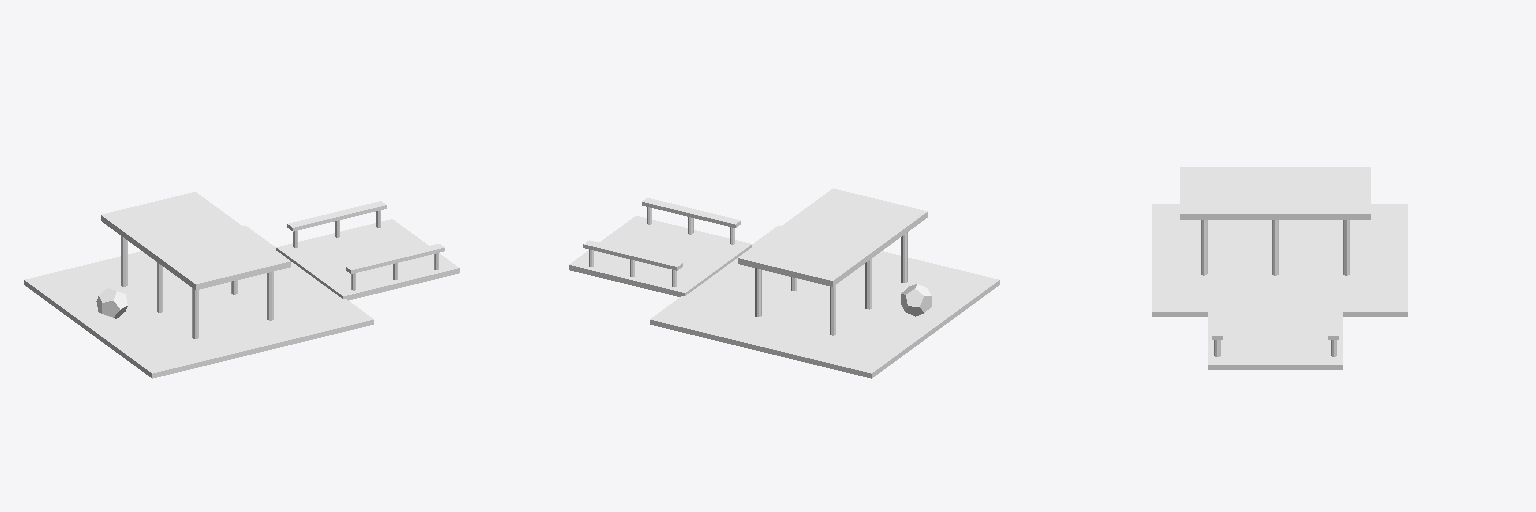
File: test_geo_mapped.obj
The picture shows the model from 3 angles: view 1: azimuth 30°, elevation 25°; view 2: azimuth 150°, elevation 25°; view 3: azimuth 270°, elevation 25°; orthographic projection.
Visible parts, largest first — view 1: mesh02, mesh09, mesh10, mesh18, mesh17, mesh01; view 2: mesh02, mesh09, mesh10, mesh18, mesh17, mesh01; view 3: mesh02, mesh09, mesh10, mesh17, mesh18.
Boxes of the visible parts, box(x1,y1,x2,y2) form: mesh02: box(24, 226, 373, 378); mesh09: box(101, 192, 290, 289); mesh10: box(276, 219, 459, 300); mesh18: box(287, 201, 386, 231); mesh17: box(346, 244, 444, 273); mesh01: box(96, 288, 127, 318); mesh02: box(650, 226, 999, 378); mesh09: box(738, 188, 927, 286); mesh10: box(569, 216, 751, 296); mesh18: box(583, 240, 682, 270); mesh17: box(642, 198, 740, 227); mesh01: box(901, 284, 931, 316); mesh02: box(1152, 204, 1407, 316); mesh09: box(1180, 167, 1370, 219); mesh10: box(1208, 308, 1342, 369); mesh17: box(1212, 290, 1222, 339); mesh18: box(1328, 290, 1338, 339).
Size of the model in its own units: 407 by 80.77 by 269.